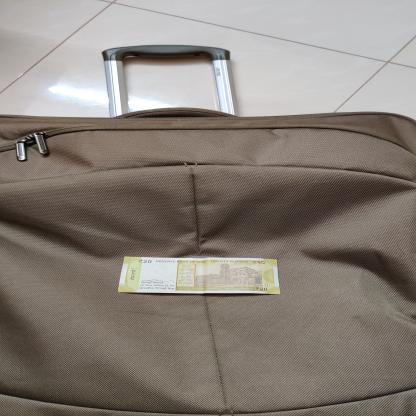New20Back: (118, 256, 282, 294)
